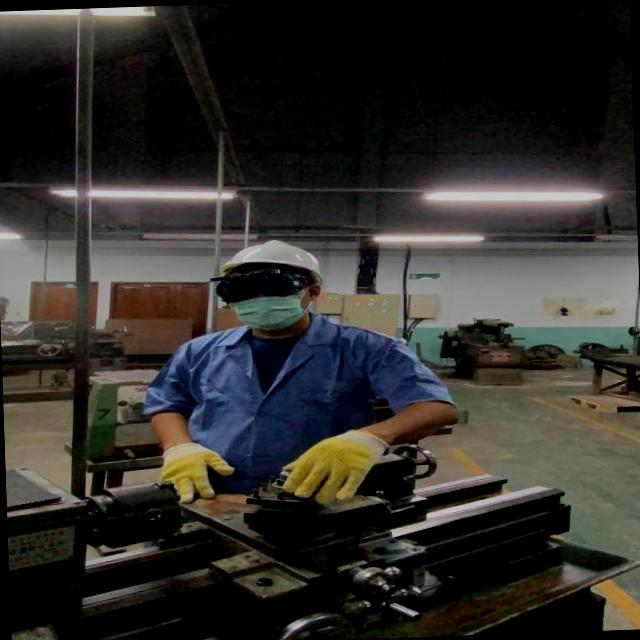gloves: (280, 404, 402, 512), (142, 430, 238, 516)
helmet: (213, 233, 328, 292)
no-vest: (166, 306, 372, 503)
